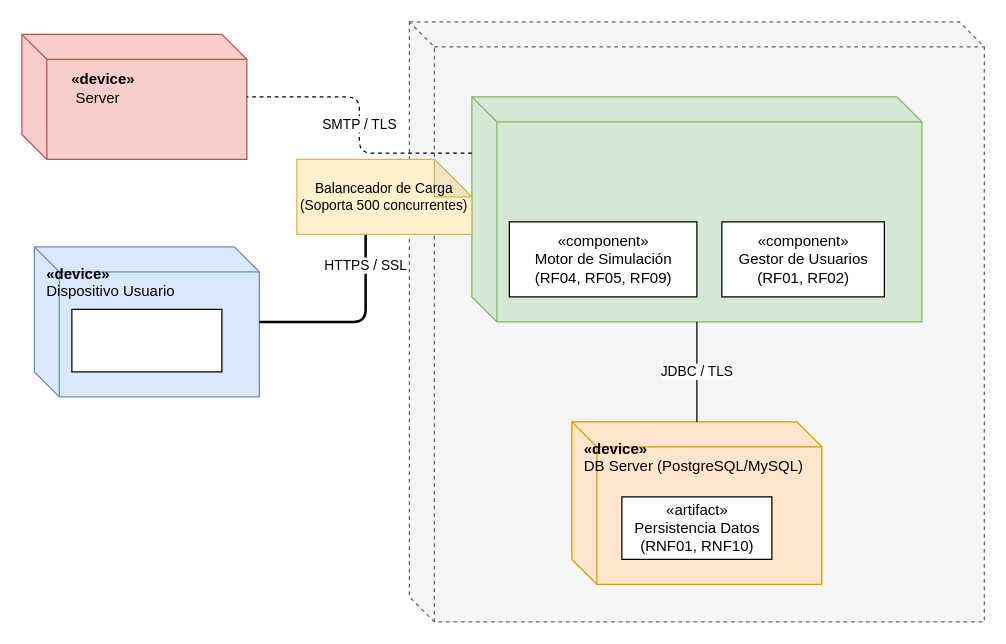
Some shapes in this 1006 by 644 pixel diagram are drawn without their labels. Here are the shapes that lost their labels. From the top down, the box of each, then its label:
(471, 96, 922, 322): «execution environment» Servidor de Aplicaciones (Docker)
(71, 308, 222, 372): «artifact» Navegador Web (RNF07)
(408, 21, 984, 622): «deployment spec» Cloud Infrastructure (AWS/Azure/GCP)
